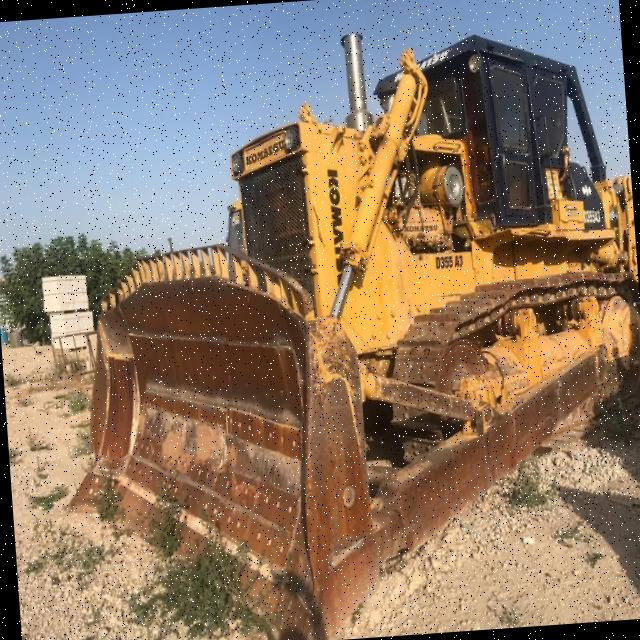Bulldozer: (75, 0, 640, 640)
